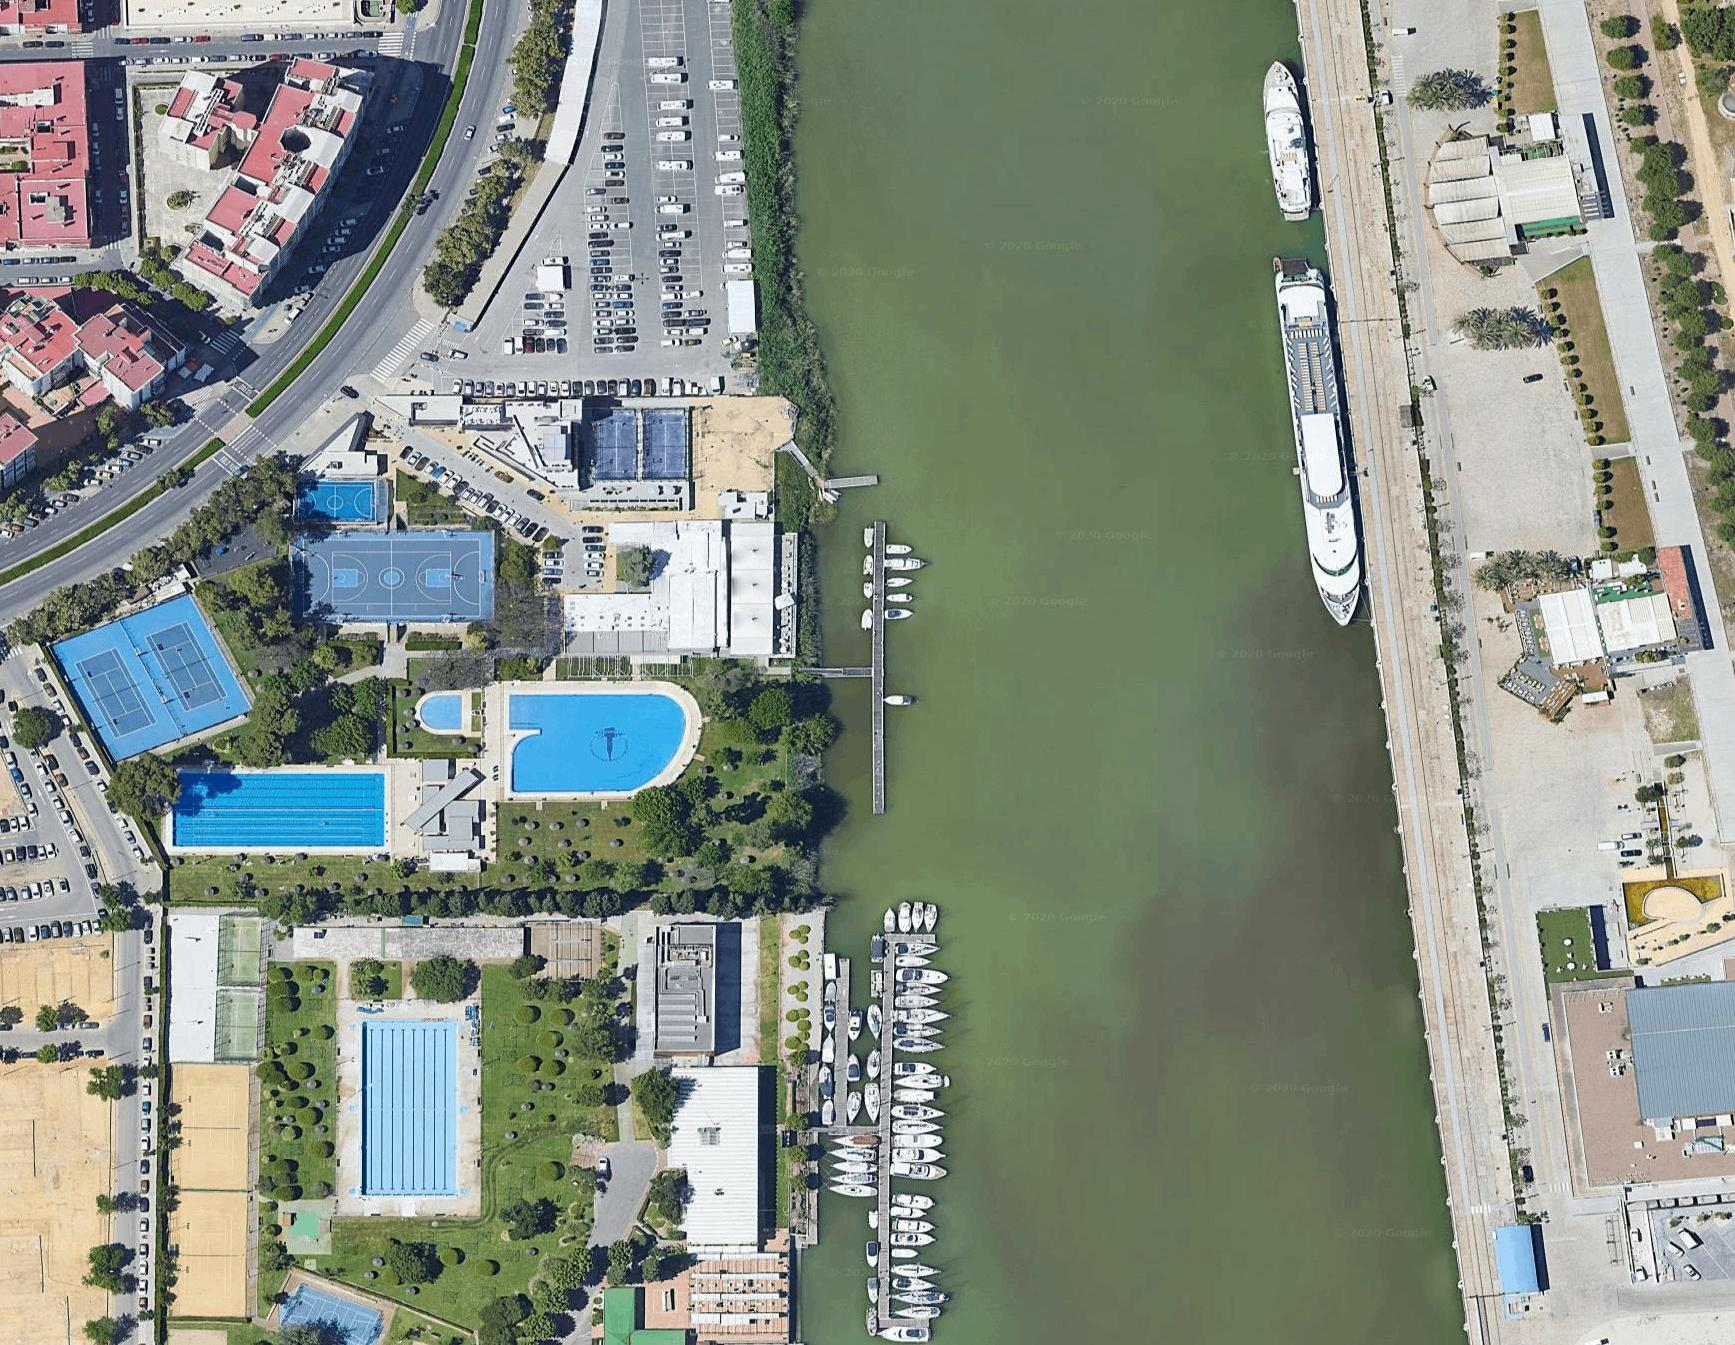basketball-court: (297, 537, 499, 620)
harbor: (822, 920, 956, 1345), (853, 515, 897, 820), (820, 469, 879, 500)
plane: (1603, 1048, 1629, 1080)
ship: (1267, 245, 1374, 646), (1258, 54, 1320, 215), (877, 1325, 931, 1344)
swimming-pool: (500, 677, 699, 806), (173, 770, 389, 853)
tennis-court: (166, 614, 239, 728)
